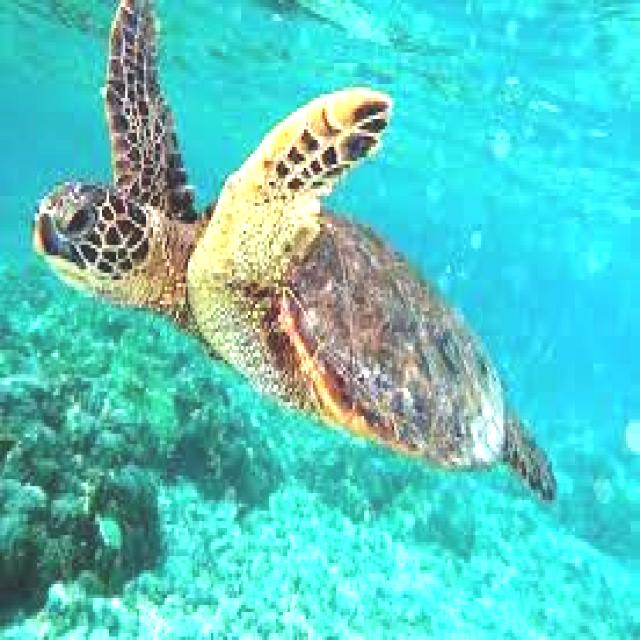Sea turtle: (35, 0, 556, 500)
